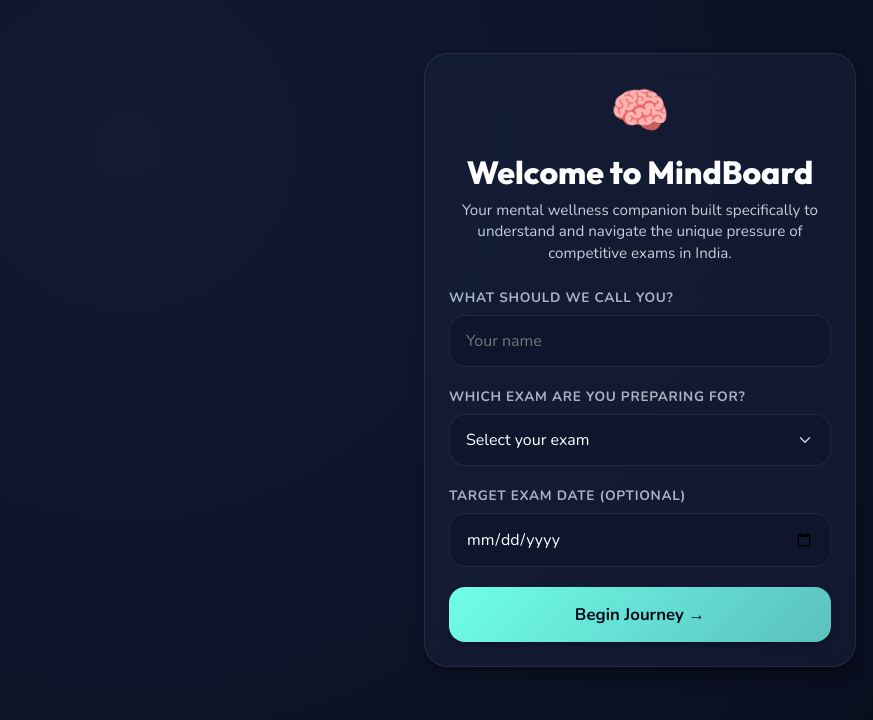
Test case: Onboarding Component › shows validation error when exam is not selected on submit
This screenshot has width=873, height=720.
// Fill name but leave exam empty
Type "Rahul" into the field named "Student name" at {"x": 640, "y": 341}, box x1=449 y1=315 x2=831 y2=367
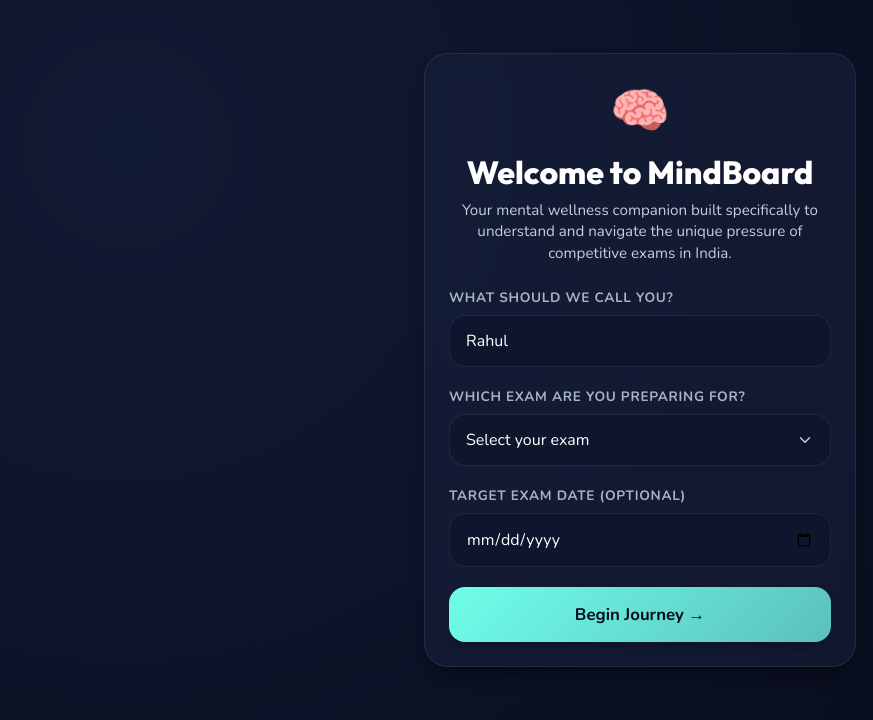
Click the button with aria-label "Start your MindBoard journey" at {"x": 640, "y": 614}, box x1=449 y1=587 x2=831 y2=642
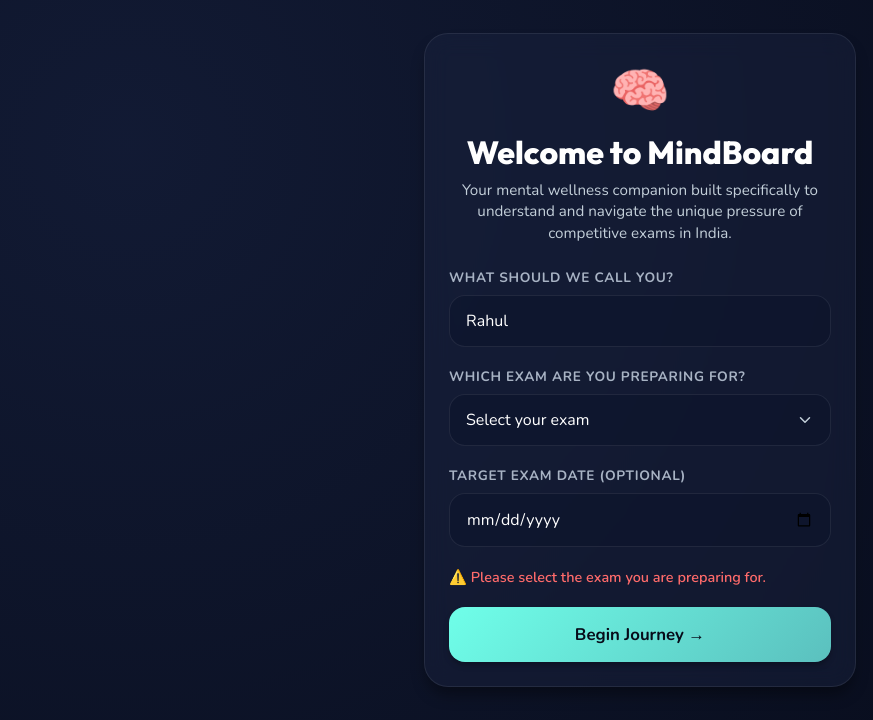
expect the message shows "Please select the exam you are preparing for.": met, box x1=471 y1=567 x2=766 y2=587
